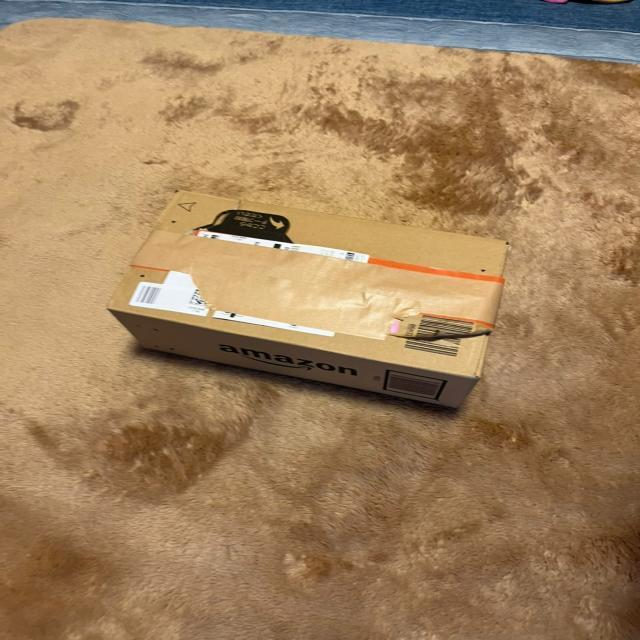box: (99, 186, 517, 418)
